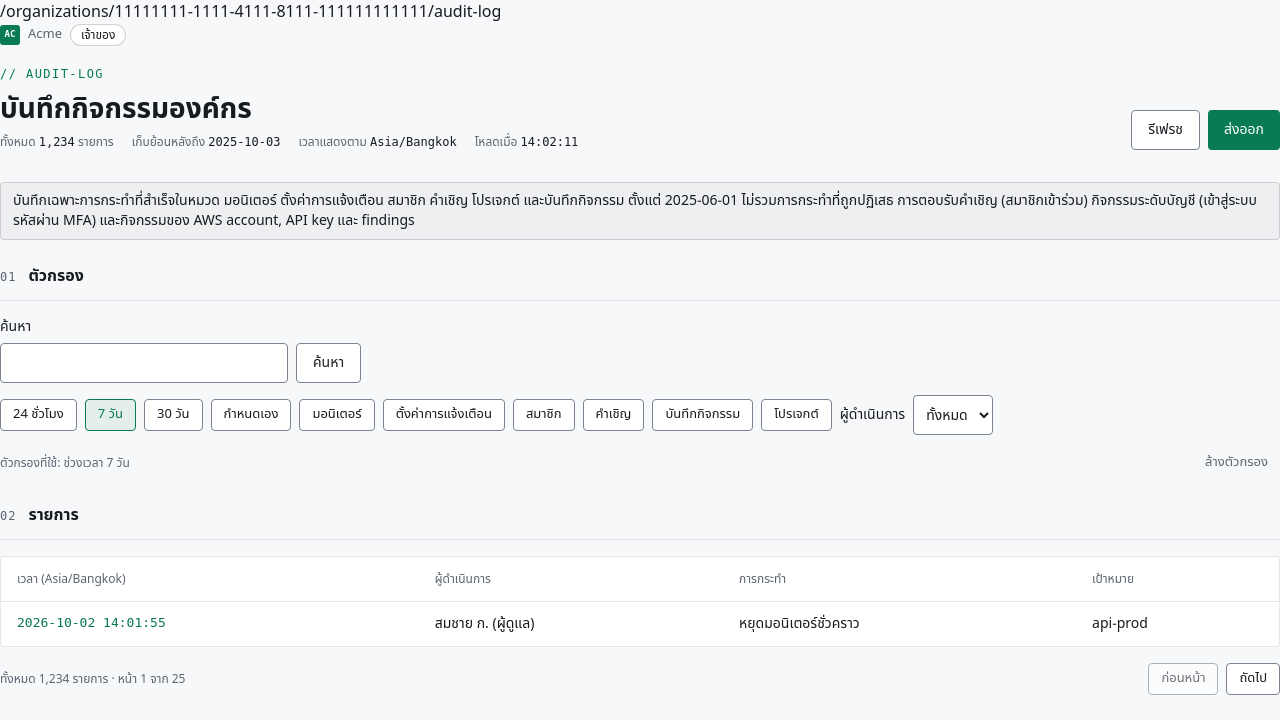
Test: export dialog › traps Tab inside and returns focus to the button on cancel
The width and height of the screenshot is (1280, 720).
Click the button with test id "audit-export-open" at (1244, 130), box [1208, 110, 1279, 150]
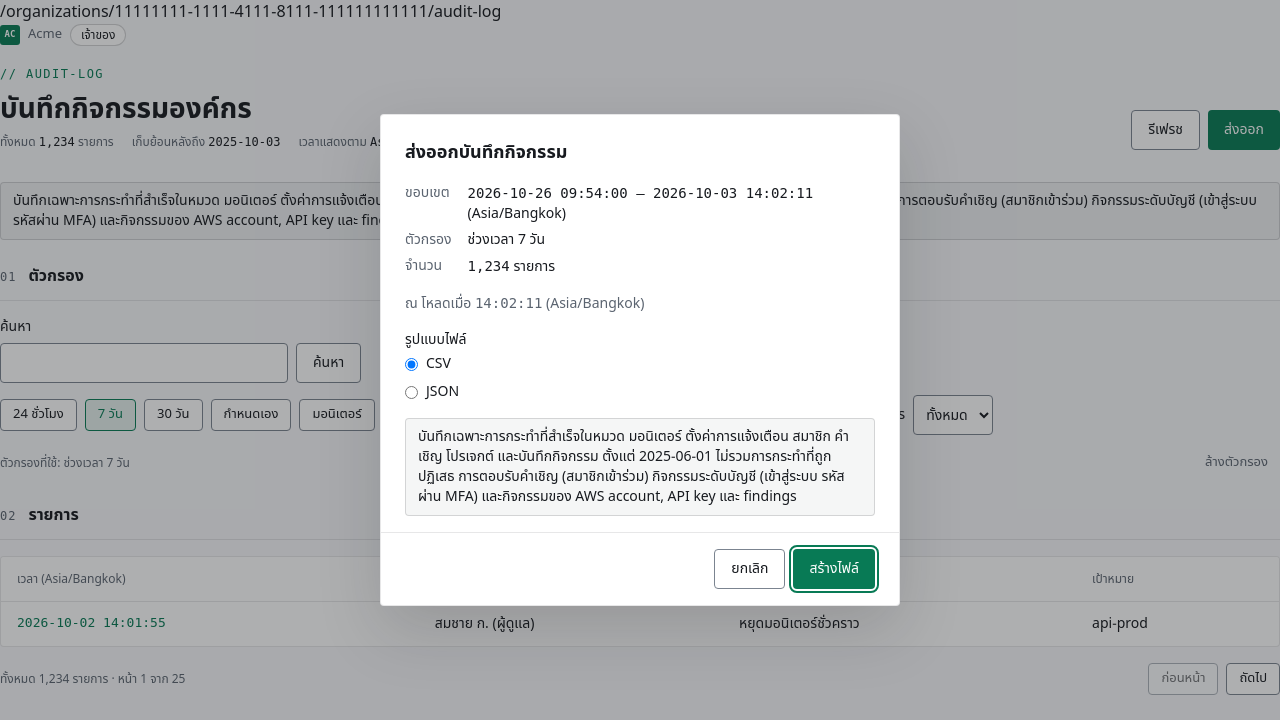
Press Tab
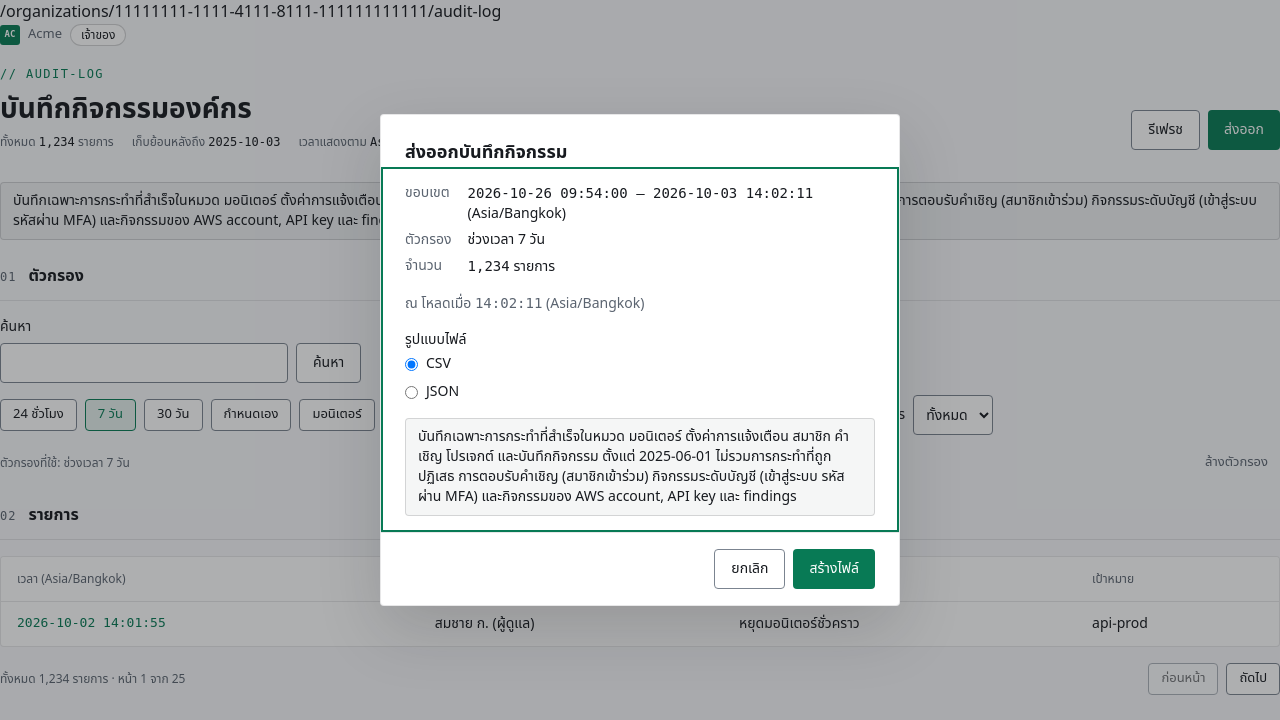
Press Shift+Tab
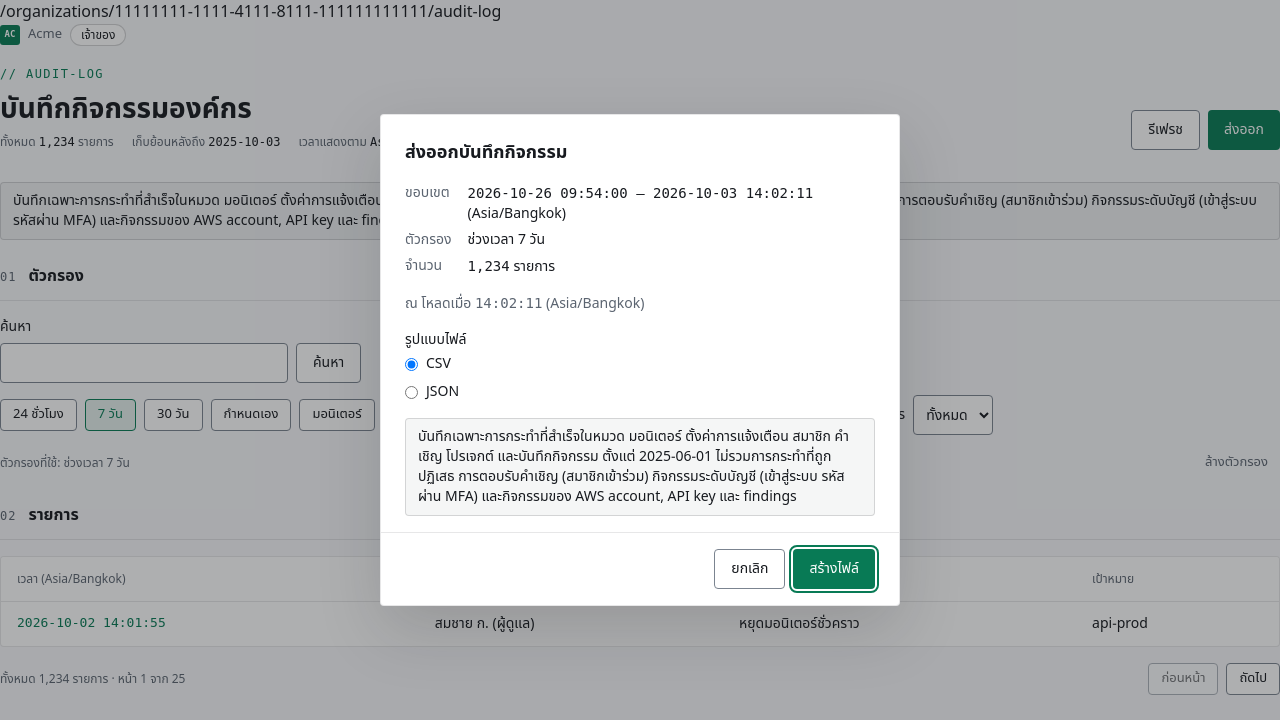
Click the button with test id "audit-export-dialog-cancel" at (750, 569), box [714, 549, 785, 589]
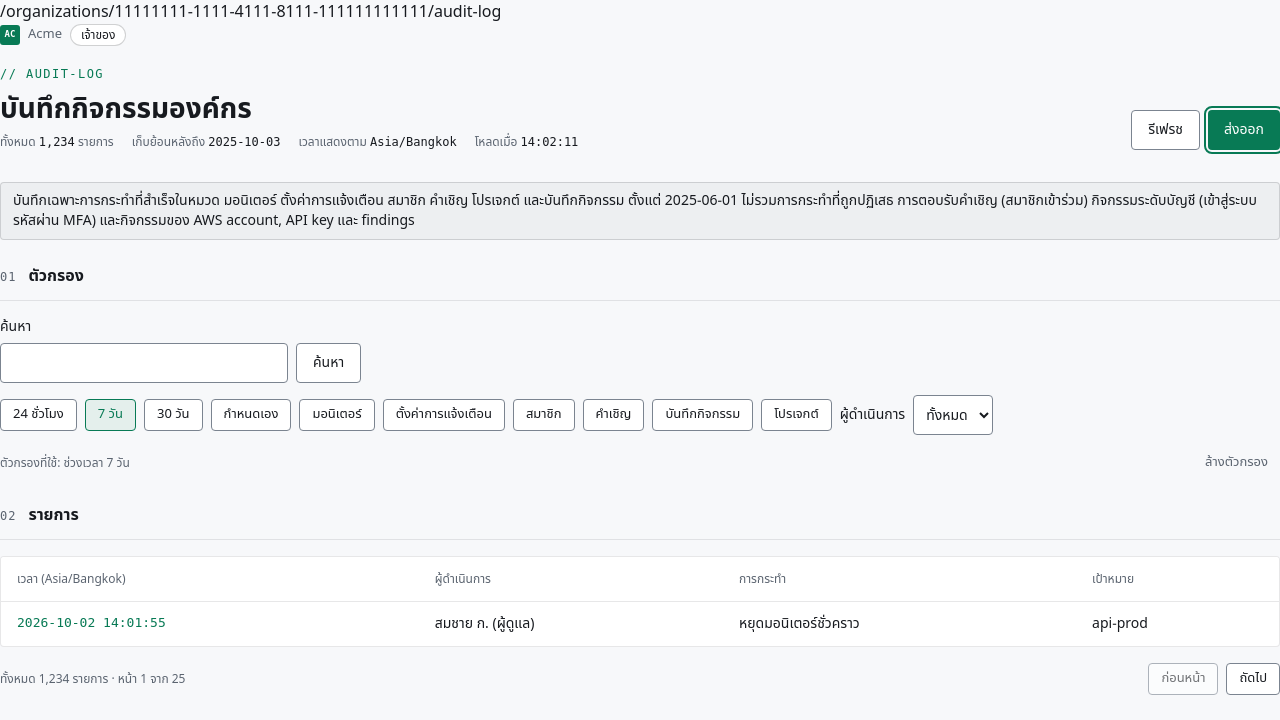
Expected: the dialog with test id "audit-export-dialog" is gone
